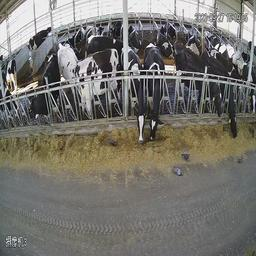cow: (174, 42, 221, 117), (28, 52, 58, 128), (146, 40, 166, 140), (221, 54, 240, 140), (128, 45, 145, 141), (59, 42, 89, 96), (28, 25, 51, 49), (65, 32, 84, 60), (157, 24, 172, 57), (3, 56, 16, 90), (183, 29, 201, 53), (128, 23, 141, 45), (110, 17, 122, 37)
